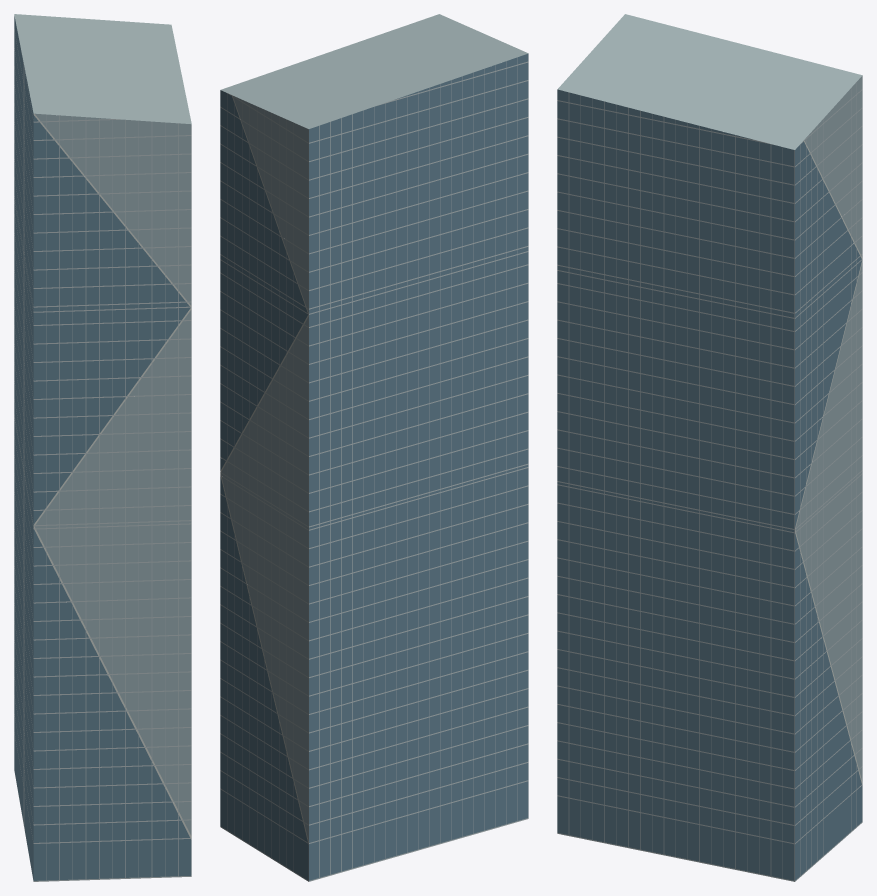
Rendered from tour-carpe-diem-near.glb.
The picture shows the model from 3 angles, left to right: view 1: azimuth 30°, elevation 25°; view 2: azimuth 150°, elevation 25°; view 3: azimuth 270°, elevation 25°; orthographic projection.
Visible parts, largest first — view 1: tour-carpe-diem-0-glass, tour-carpe-diem-0-glassPale, tour-carpe-diem-0-frame, tour-carpe-diem-0-roof, tour-carpe-diem-0-fold; view 2: tour-carpe-diem-0-glass, tour-carpe-diem-0-frame, tour-carpe-diem-0-glassPale, tour-carpe-diem-0-roof, tour-carpe-diem-0-fold; view 3: tour-carpe-diem-0-glass, tour-carpe-diem-0-frame, tour-carpe-diem-0-glassPale, tour-carpe-diem-0-roof, tour-carpe-diem-0-fold.
Part boxes in pixels (x1=…): tour-carpe-diem-0-glass: x1=14, y1=16, x2=191, y2=880; tour-carpe-diem-0-glassPale: x1=34, y1=113, x2=191, y2=835; tour-carpe-diem-0-frame: x1=14, y1=29, x2=191, y2=881; tour-carpe-diem-0-roof: x1=14, y1=14, x2=191, y2=124; tour-carpe-diem-0-fold: x1=33, y1=113, x2=191, y2=839; tour-carpe-diem-0-glass: x1=220, y1=54, x2=528, y2=880; tour-carpe-diem-0-frame: x1=220, y1=54, x2=528, y2=881; tour-carpe-diem-0-glassPale: x1=221, y1=96, x2=308, y2=840; tour-carpe-diem-0-roof: x1=221, y1=14, x2=528, y2=128; tour-carpe-diem-0-fold: x1=220, y1=96, x2=308, y2=844; tour-carpe-diem-0-glass: x1=557, y1=89, x2=862, y2=880; tour-carpe-diem-0-frame: x1=557, y1=75, x2=862, y2=881; tour-carpe-diem-0-glassPale: x1=795, y1=76, x2=862, y2=780; tour-carpe-diem-0-roof: x1=557, y1=14, x2=862, y2=149; tour-carpe-diem-0-fold: x1=795, y1=141, x2=862, y2=783.
Size of the model in its own units: 49.39 by 162 by 58.99.
